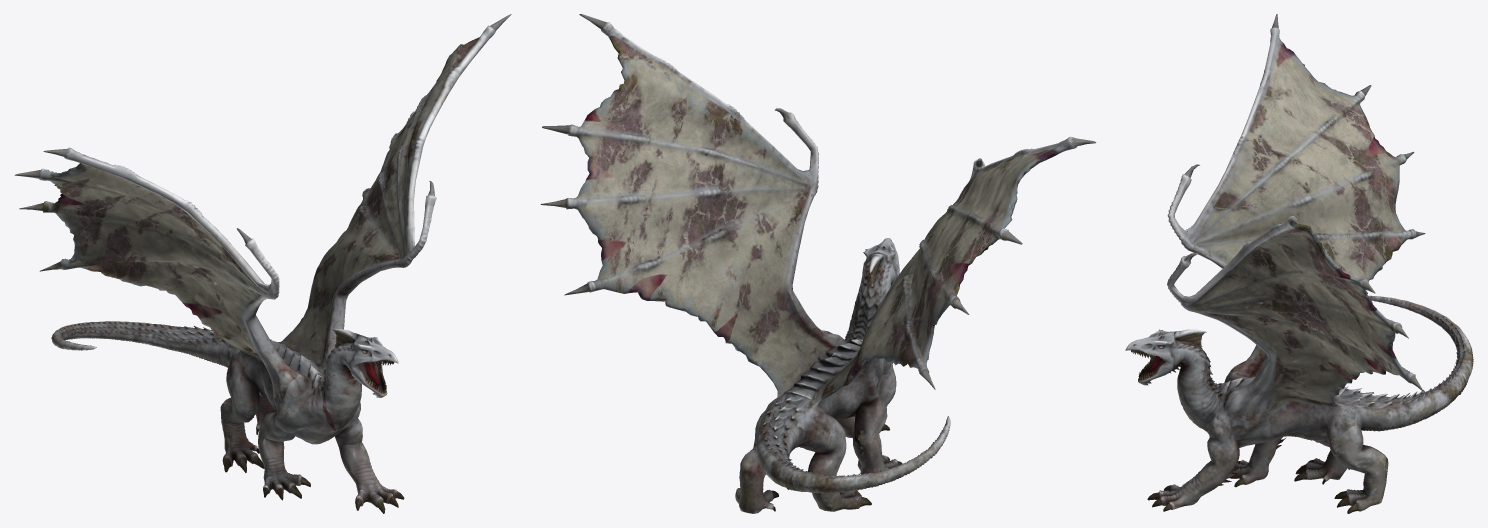
The model's file is MZ4250 - Dragon White Ancient Undead.glb.
3 views of the same model, side by side, from view 1: azimuth 30°, elevation 25°; view 2: azimuth 150°, elevation 25°; view 3: azimuth 270°, elevation 25° (orthographic). The views are drawn at different scales.
Parts seen in each view (by area): view 1: Head Base Sphere.001; view 2: Head Base Sphere.001; view 3: Head Base Sphere.001.
Part boxes in pixels (x1,y1,x2,y2): Head Base Sphere.001: [14, 14, 511, 513]; Head Base Sphere.001: [540, 14, 1096, 513]; Head Base Sphere.001: [1125, 14, 1473, 513].
Size of the model in its own units: 5.83 by 4.59 by 3.87.
Materials: 1 (1 with a texture image).
